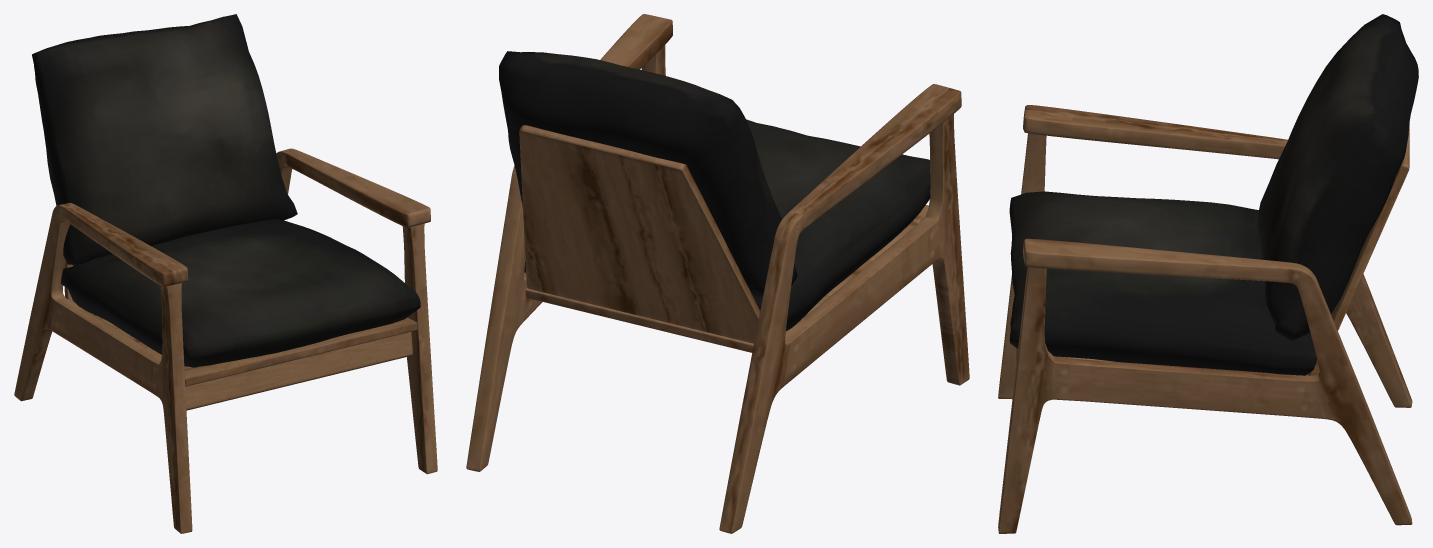
The model's file is armchair.glb.
The picture shows the model from 3 angles, left to right: view 1: azimuth 30°, elevation 25°; view 2: azimuth 150°, elevation 25°; view 3: azimuth 270°, elevation 25°; orthographic projection. The views are drawn at different scales.
Parts seen in each view (by area): view 1: armchair; view 2: armchair; view 3: armchair.
Boxes of the visible parts, left/top/right/bottom form: armchair: left=14, top=14, right=437, bottom=533; armchair: left=466, top=14, right=969, bottom=533; armchair: left=998, top=14, right=1418, bottom=533.
Bounding box in the file's own units: 0.8204 × 1.02 × 0.9866.
Materials: 2 (2 with a texture image).
